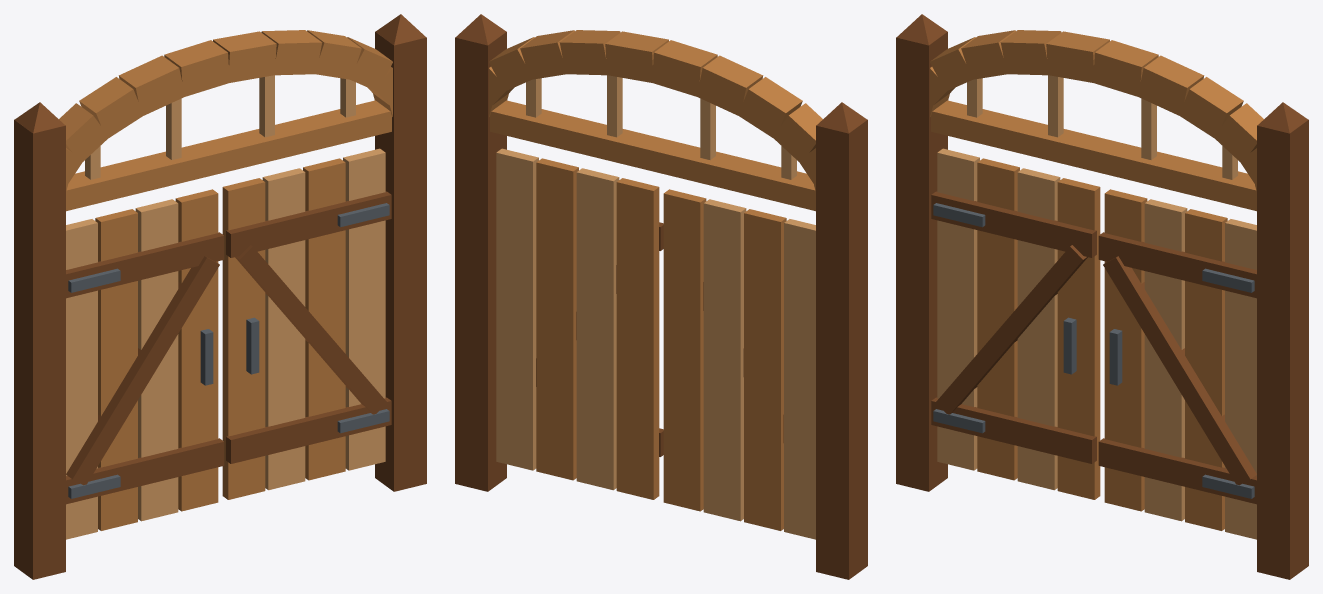
The model's file is puerta_jardin.glb.
The picture shows the model from 3 angles, left to right: view 1: azimuth 30°, elevation 25°; view 2: azimuth 150°, elevation 25°; view 3: azimuth 330°, elevation 25°; orthographic projection.
Parts seen in each view (by area): view 1: puerta_jardin_madera_osc, puerta_jardin_madera, hoja_der_madera, hoja_der_madera_clara, hoja_izq_madera, hoja_izq_madera_clara, hoja_izq_madera_osc, hoja_der_madera_osc, puerta_jardin_madera_clara, hoja_izq_metal_osc, hoja_der_metal_osc; view 2: puerta_jardin_madera_osc, puerta_jardin_madera, hoja_der_madera, hoja_der_madera_clara, hoja_izq_madera, hoja_izq_madera_clara, puerta_jardin_madera_clara; view 3: puerta_jardin_madera_osc, puerta_jardin_madera, hoja_izq_madera, hoja_izq_madera_clara, hoja_der_madera, hoja_der_madera_clara, hoja_der_madera_osc, hoja_izq_madera_osc, puerta_jardin_madera_clara, hoja_der_metal_osc, hoja_izq_metal_osc.
Part boxes in pixels (left/top/right/bottom): puerta_jardin_madera_osc: left=14, top=14, right=426, bottom=579; puerta_jardin_madera: left=59, top=30, right=392, bottom=211; hoja_der_madera: left=222, top=158, right=345, bottom=499; hoja_der_madera_clara: left=262, top=148, right=385, bottom=490; hoja_izq_madera: left=95, top=189, right=218, bottom=530; hoja_izq_madera_clara: left=66, top=199, right=178, bottom=539; hoja_izq_madera_osc: left=66, top=232, right=224, bottom=504; hoja_der_madera_osc: left=226, top=191, right=391, bottom=463; puerta_jardin_madera_clara: left=85, top=75, right=355, bottom=179; hoja_izq_metal_osc: left=68, top=268, right=213, bottom=498; hoja_der_metal_osc: left=246, top=203, right=389, bottom=433; puerta_jardin_madera_osc: left=455, top=14, right=867, bottom=579; puerta_jardin_madera: left=489, top=30, right=822, bottom=211; hoja_der_madera: left=536, top=158, right=659, bottom=499; hoja_der_madera_clara: left=496, top=148, right=619, bottom=490; hoja_izq_madera: left=663, top=189, right=786, bottom=530; hoja_izq_madera_clara: left=703, top=199, right=815, bottom=539; puerta_jardin_madera_clara: left=526, top=75, right=796, bottom=179; puerta_jardin_madera_osc: left=896, top=14, right=1308, bottom=579; puerta_jardin_madera: left=930, top=30, right=1263, bottom=211; hoja_izq_madera: left=977, top=158, right=1100, bottom=499; hoja_izq_madera_clara: left=937, top=148, right=1060, bottom=490; hoja_der_madera: left=1104, top=189, right=1227, bottom=530; hoja_der_madera_clara: left=1144, top=199, right=1256, bottom=539; hoja_der_madera_osc: left=1098, top=232, right=1256, bottom=504; hoja_izq_madera_osc: left=931, top=191, right=1096, bottom=463; puerta_jardin_madera_clara: left=967, top=75, right=1237, bottom=179; hoja_der_metal_osc: left=1109, top=268, right=1254, bottom=498; hoja_izq_metal_osc: left=933, top=203, right=1076, bottom=433.
Size of the model in its own units: 2.4 by 2.79 by 0.225.
